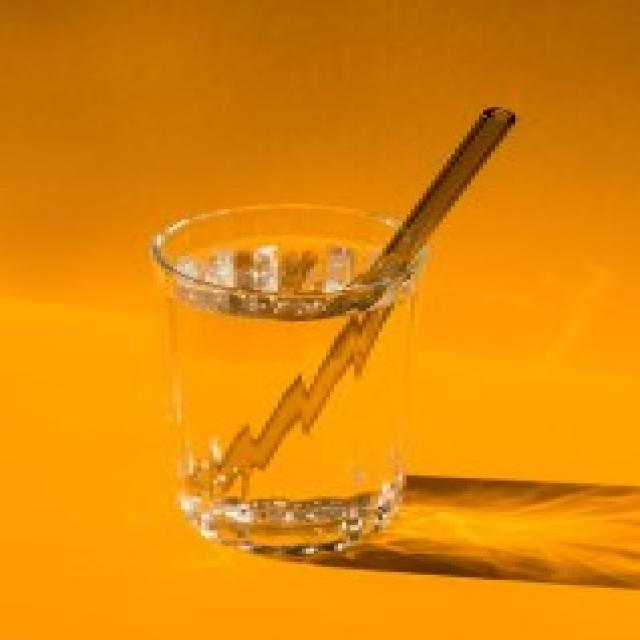electronic: (144, 200, 436, 570)
